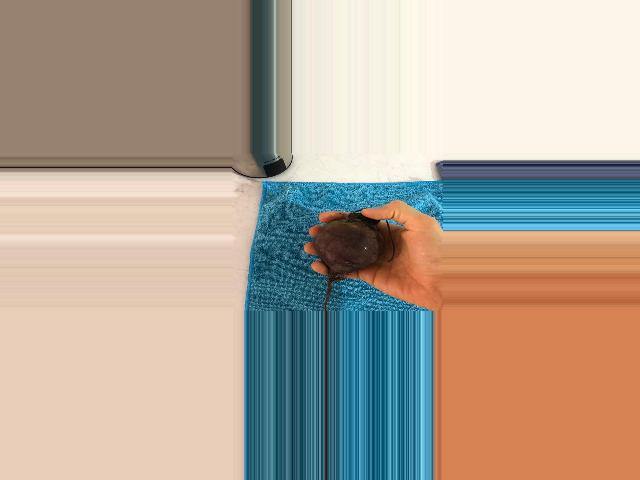beet: (314, 208, 393, 312)
